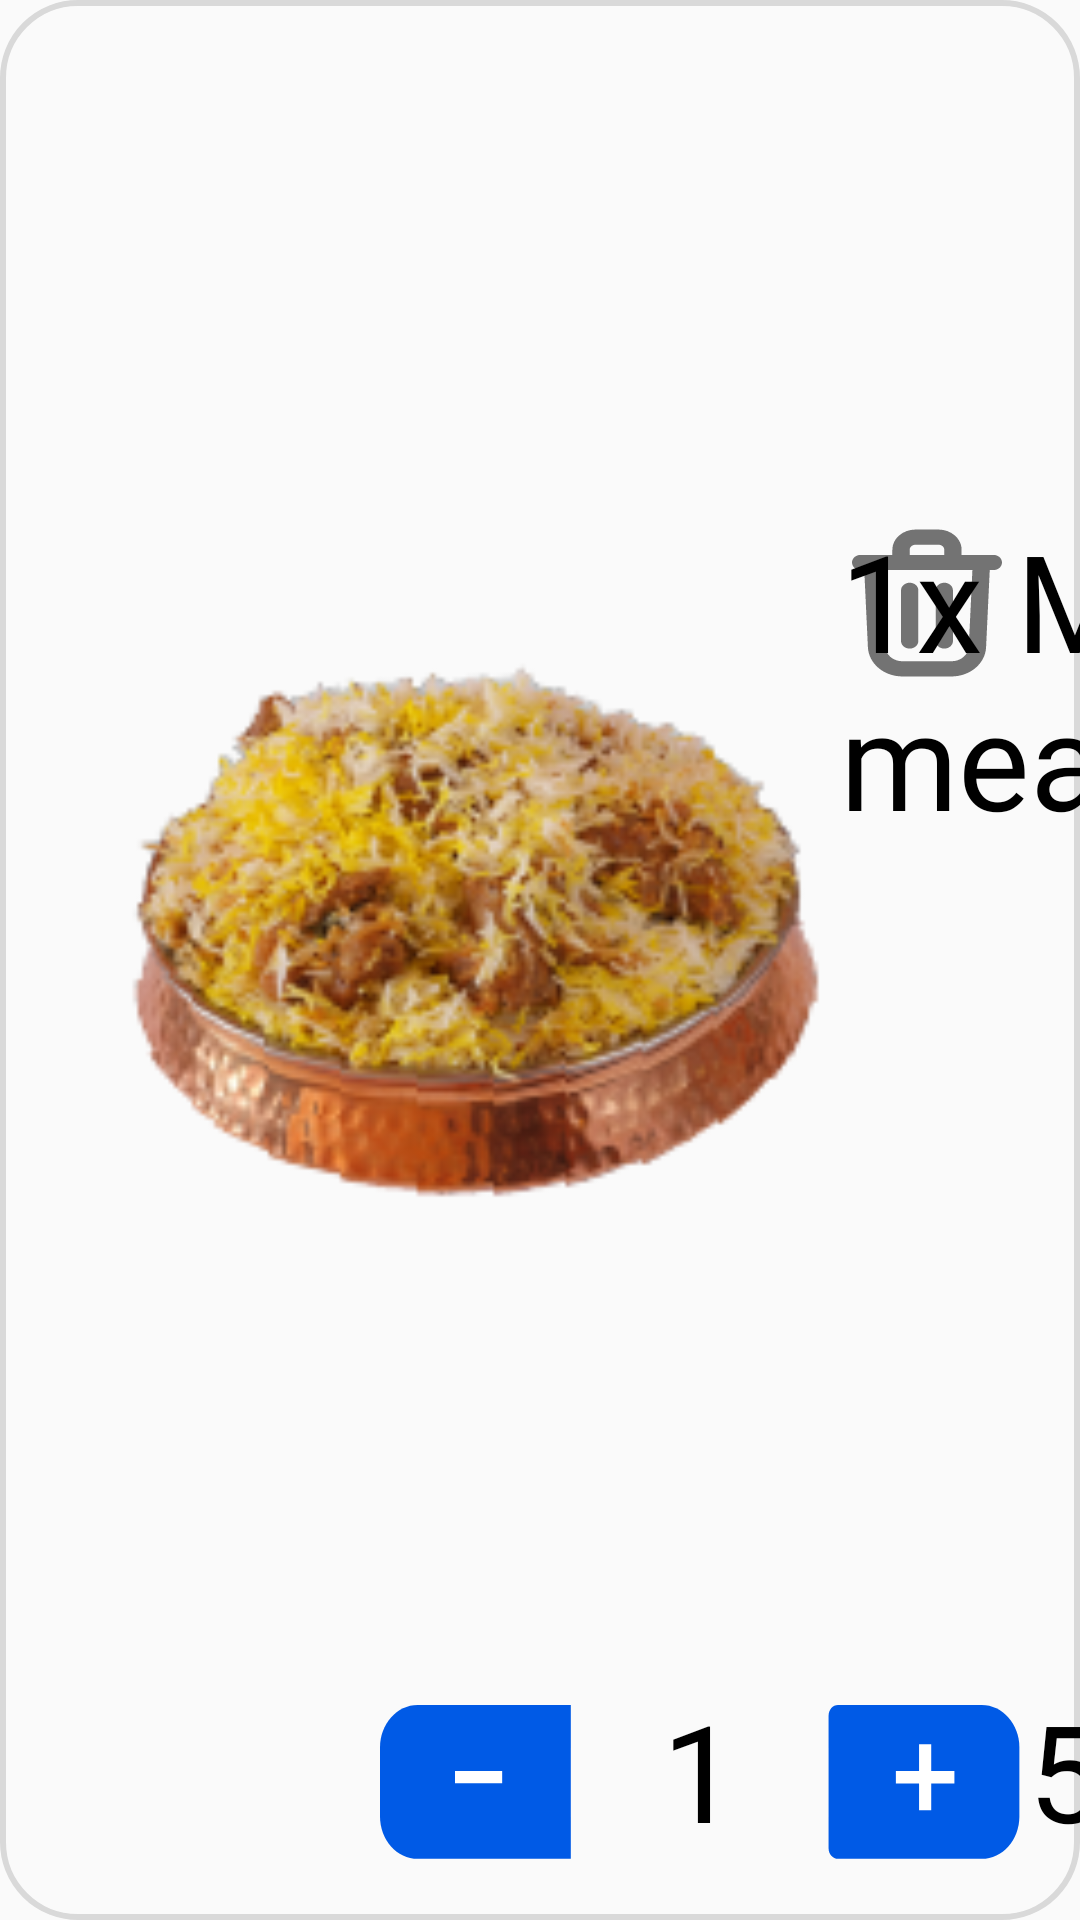

Icon click points for this 1080w x 1920h phone screenshot, format point (x, y):
minus: point (475, 1782)
plus: point (924, 1782)
